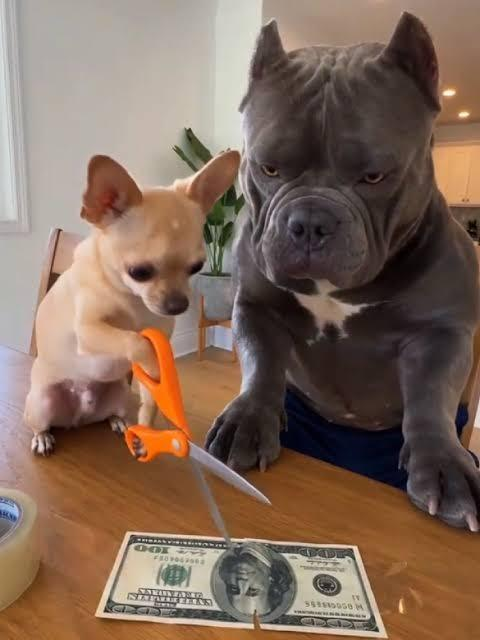adult_dog: (204, 11, 480, 534)
puppy-dog: (22, 148, 239, 457)
